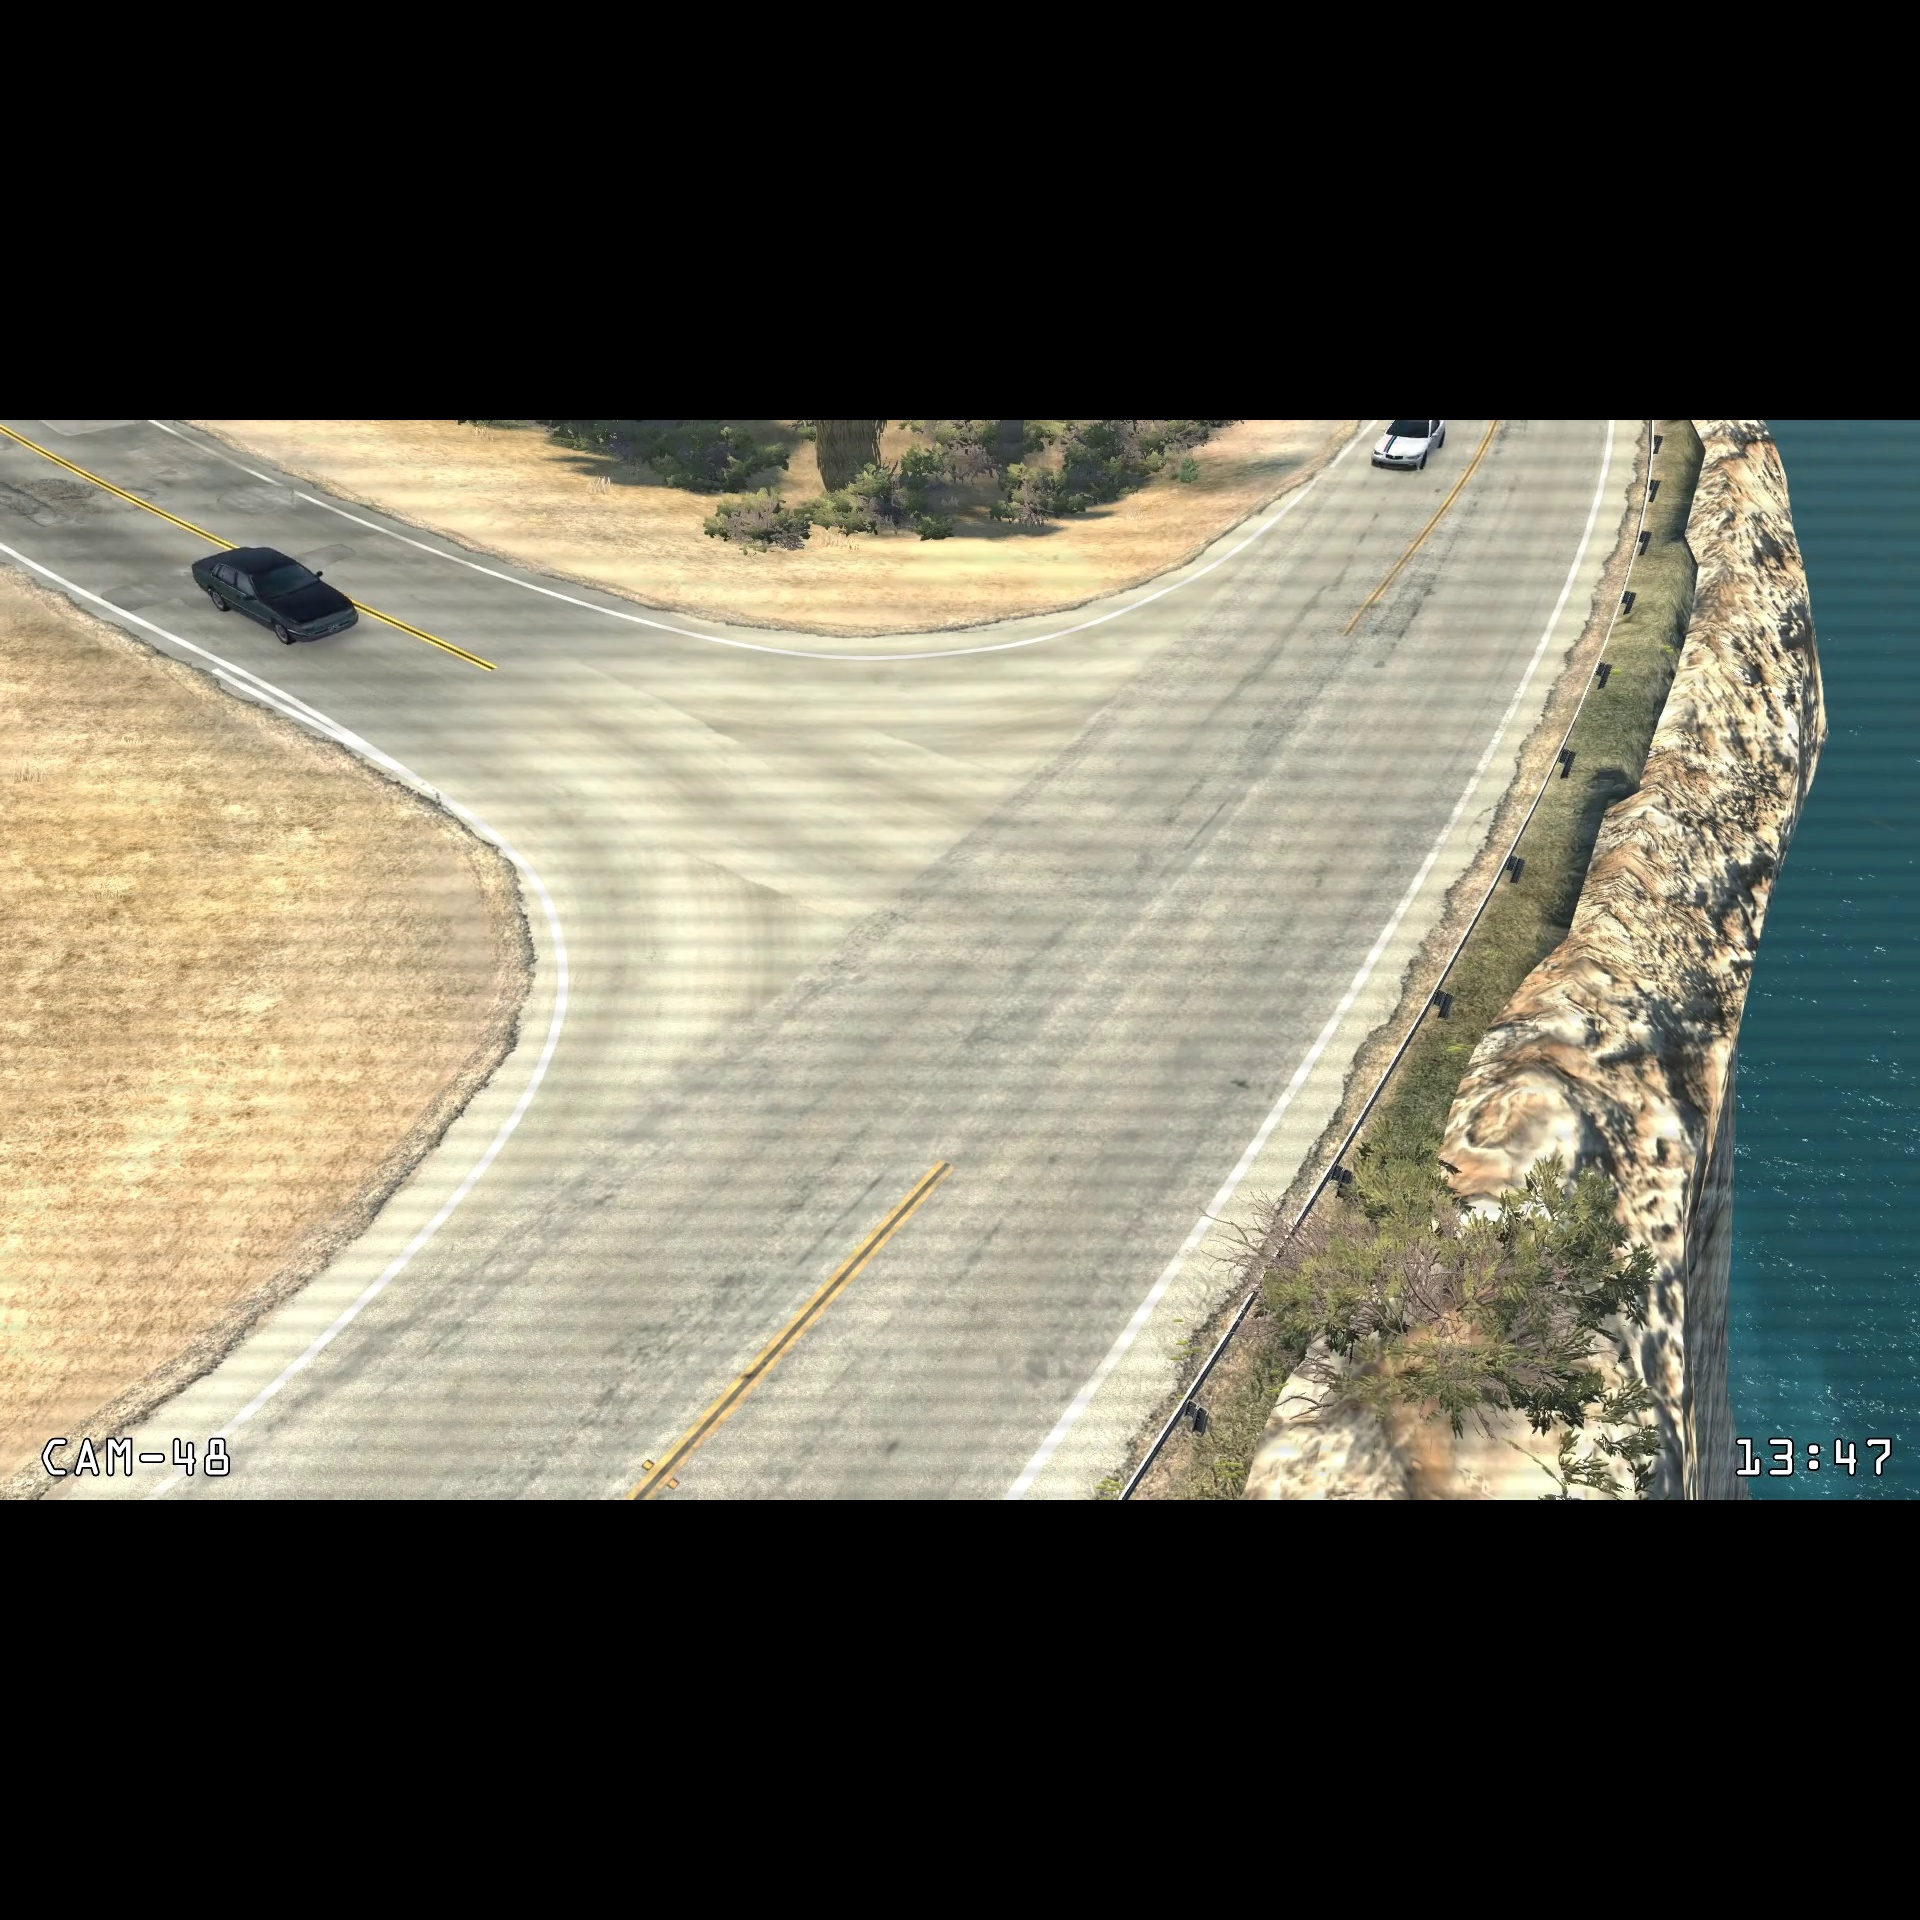vehicle: (183, 536, 366, 658), (1368, 420, 1452, 478)
